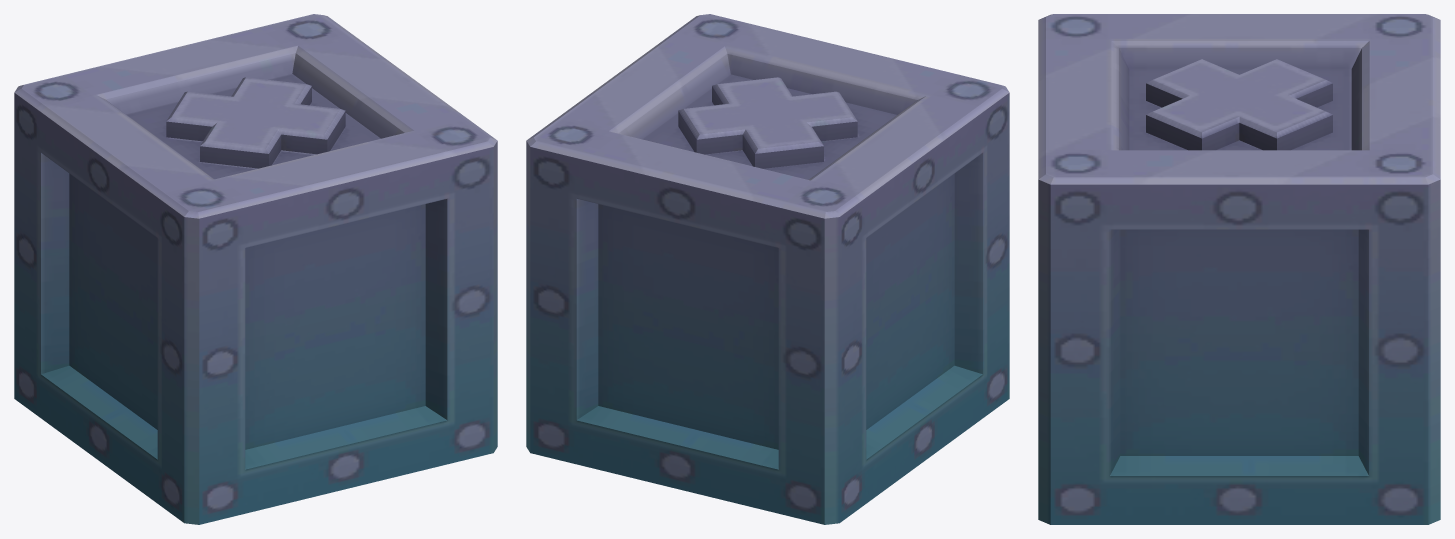
Rendered from boxes5.fbx.
The picture shows the model from 3 angles, left to right: view 1: azimuth 30°, elevation 25°; view 2: azimuth 150°, elevation 25°; view 3: azimuth 270°, elevation 25°; orthographic projection. The views are drawn at different scales.
Parts seen in each view (by area): view 1: boxes5; view 2: boxes5; view 3: boxes5.
Boxes of the visible parts, x1,y1,x2,y2 form: boxes5: [14, 14, 497, 524]; boxes5: [526, 14, 1009, 524]; boxes5: [1038, 14, 1440, 524].
Bounding box in the file's own units: 2.88 × 2.72 × 2.88.
Materials: 1 (1 with a texture image).
